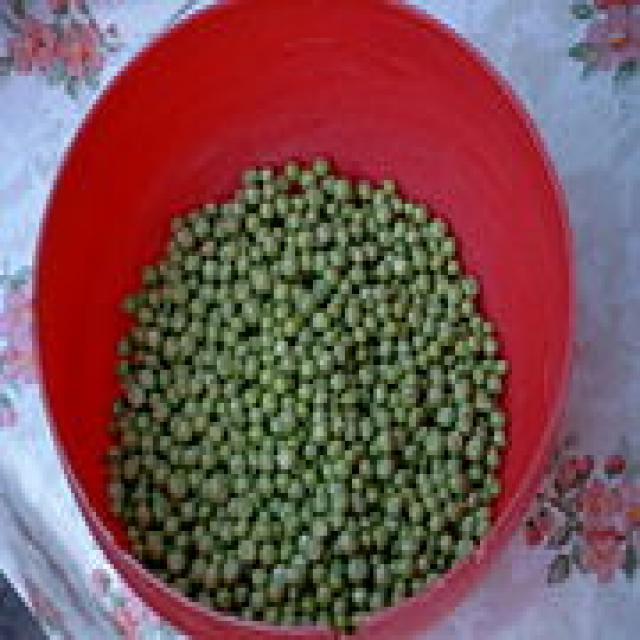Peas: (98, 154, 506, 633)
